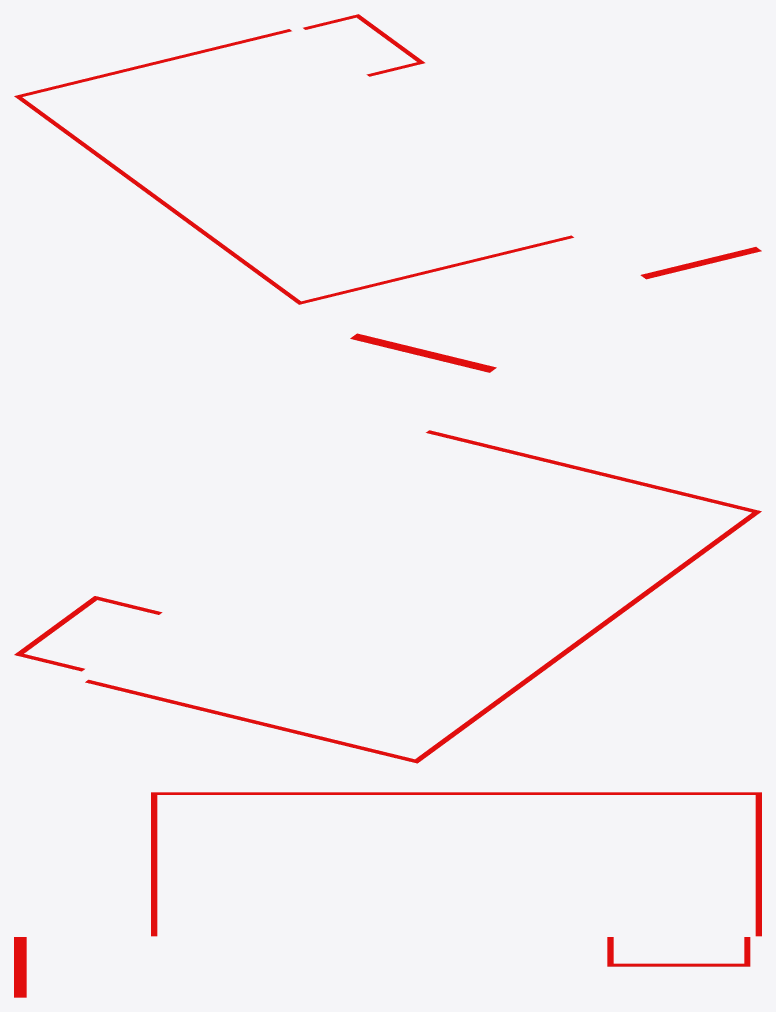
The picture shows the model from 3 angles, top to bottom: view 1: azimuth 30°, elevation 25°; view 2: azimuth 150°, elevation 25°; view 3: azimuth 270°, elevation 25°; orthographic projection. The views are drawn at different scales.
Parts seen in each view (by area): view 1: structure-0-0-0; view 2: structure-0-0-0; view 3: structure-0-0-0.
Part boxes in pixels (left/top/right/bottom): structure-0-0-0: left=14, top=14, right=761, bottom=304; structure-0-0-0: left=14, top=333, right=761, bottom=763; structure-0-0-0: left=14, top=792, right=761, bottom=997.
Size of the model in its own units: 1.99 by 0.0152 by 3.01.
